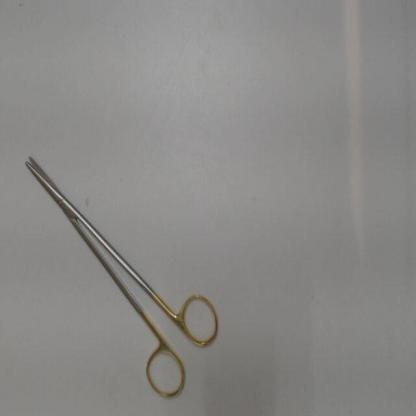7 Metzenbaum Scissors: (21, 148, 223, 402)
